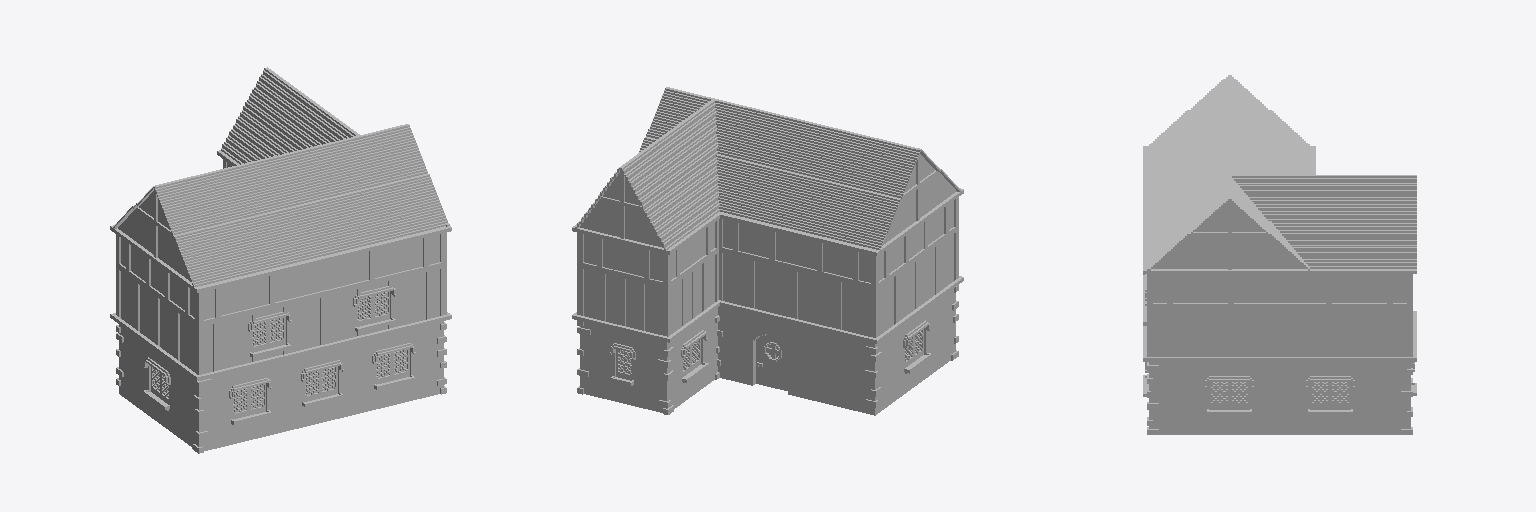
Rendered from Casa 01.obj.
3 renders of one model, left to right at view 1: azimuth 30°, elevation 25°; view 2: azimuth 150°, elevation 25°; view 3: azimuth 270°, elevation 25°, orthographic.
Visible parts, largest first — view 1: object 1; view 2: object 1; view 3: object 1.
Part boxes in pixels (x1,y1,x2,y2): object 1: (110,67,451,453); object 1: (572,87,963,415); object 1: (1143,75,1416,434).
Bounding box in the file's own units: 14.6 × 13 × 13.6.